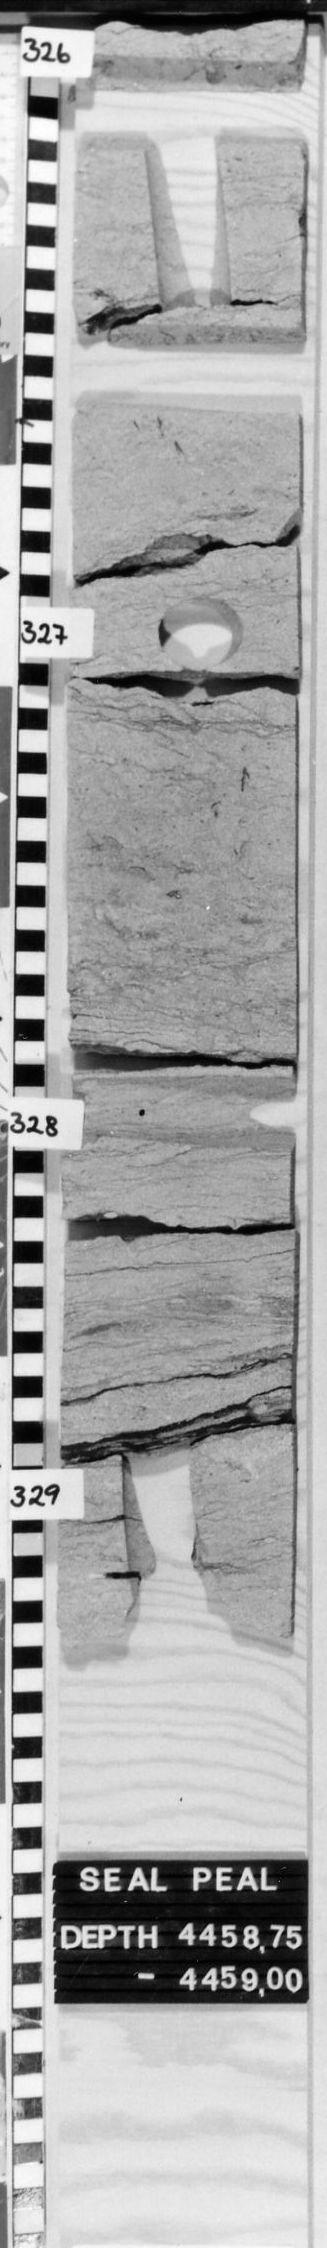hplug: (80, 52, 303, 151), (153, 591, 251, 670), (229, 1072, 297, 1148)
scal: (77, 324, 301, 439)
vplug: (106, 1429, 221, 1589), (139, 146, 242, 320)
